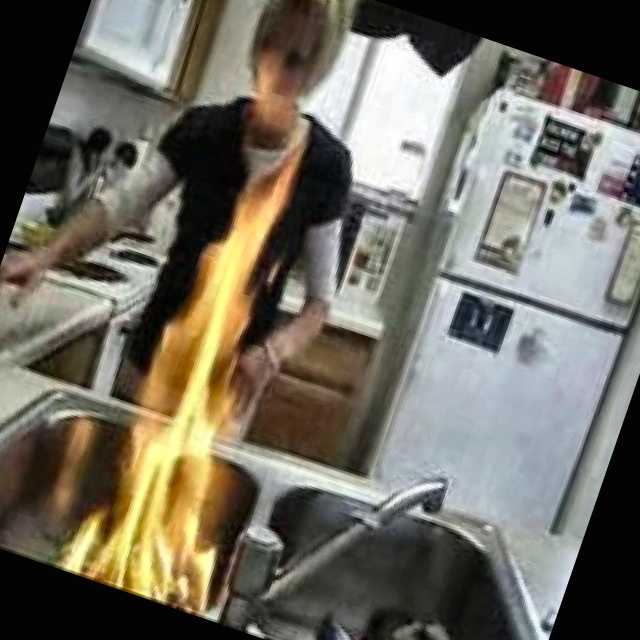fire: (46, 38, 398, 623)
